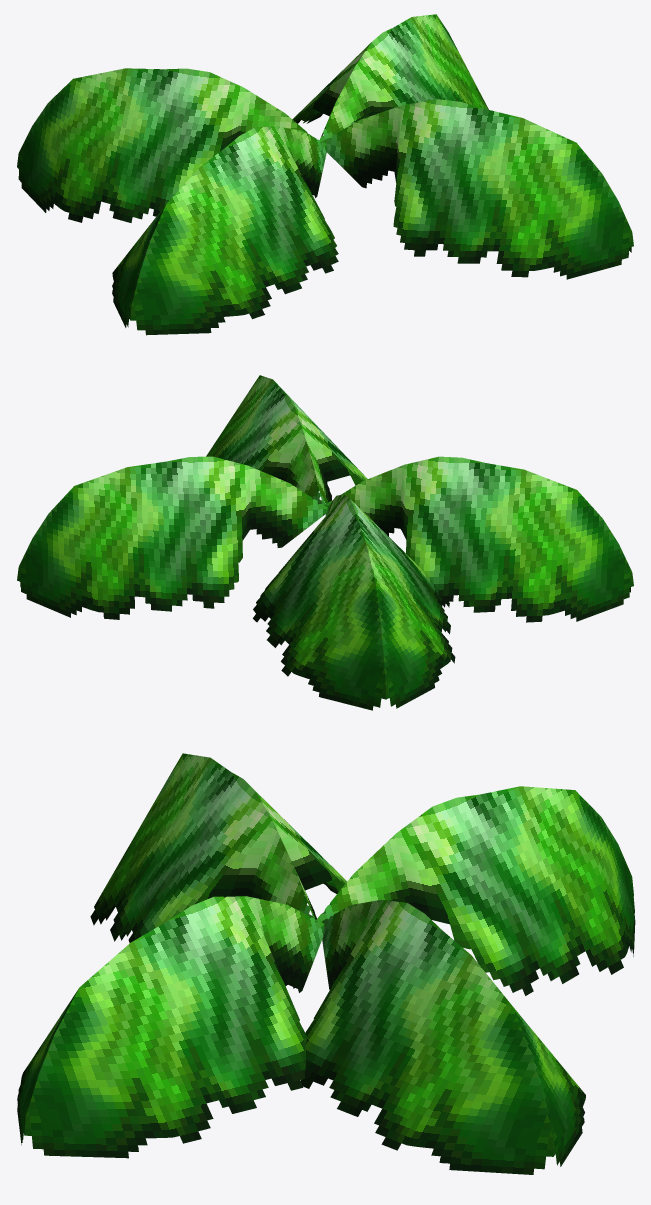
Rendered from Palm Tree Top.dae.
3 renders of one model, top to bottom at view 1: azimuth 30°, elevation 25°; view 2: azimuth 150°, elevation 25°; view 3: azimuth 270°, elevation 25°, orthographic. The views are drawn at different scales.
Parts seen in each view (by area): view 1: Leaf, Leaf3, Leaf2, Leaf1; view 2: Leaf1, Leaf3, Leaf2, Leaf; view 3: Leaf, Leaf1, Leaf2, Leaf3.
Part boxes in pixels (<box>): Leaf: <box>322,99,633,279</box>; Leaf3: <box>112,126,338,335</box>; Leaf2: <box>17,68,311,222</box>; Leaf1: <box>292,14,488,142</box>; Leaf1: <box>17,456,327,619</box>; Leaf3: <box>324,456,633,622</box>; Leaf2: <box>253,494,455,710</box>; Leaf: <box>206,375,367,505</box>; Leaf: <box>17,896,324,1158</box>; Leaf1: <box>300,899,585,1174</box>; Leaf2: <box>315,786,635,995</box>; Leaf3: <box>90,753,346,942</box>.
Size of the model in its own units: 32.92 by 9.52 by 27.85.
Materials: 1 (1 with a texture image).
